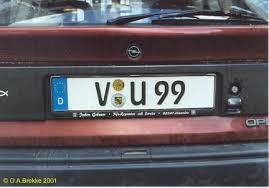9: (152, 80, 170, 105), (169, 80, 186, 105)
U: (129, 80, 149, 106)
V: (93, 80, 112, 106)
